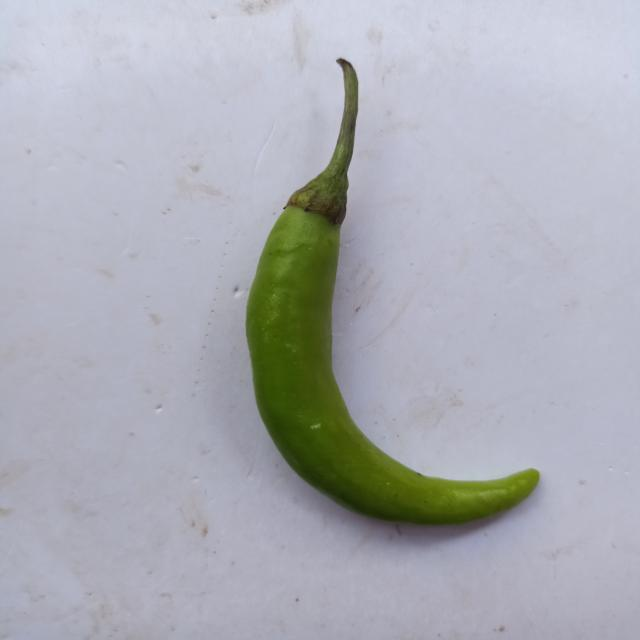Green Chilly: (246, 58, 539, 526)
